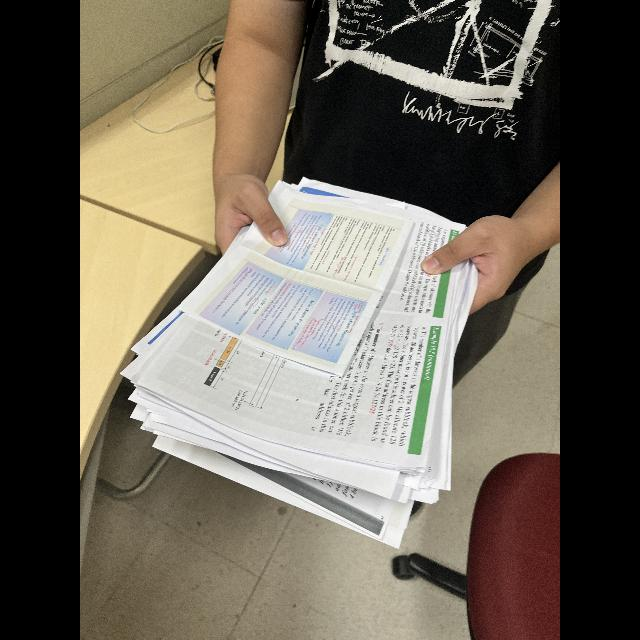reuseable_paper: (125, 168, 477, 552)
